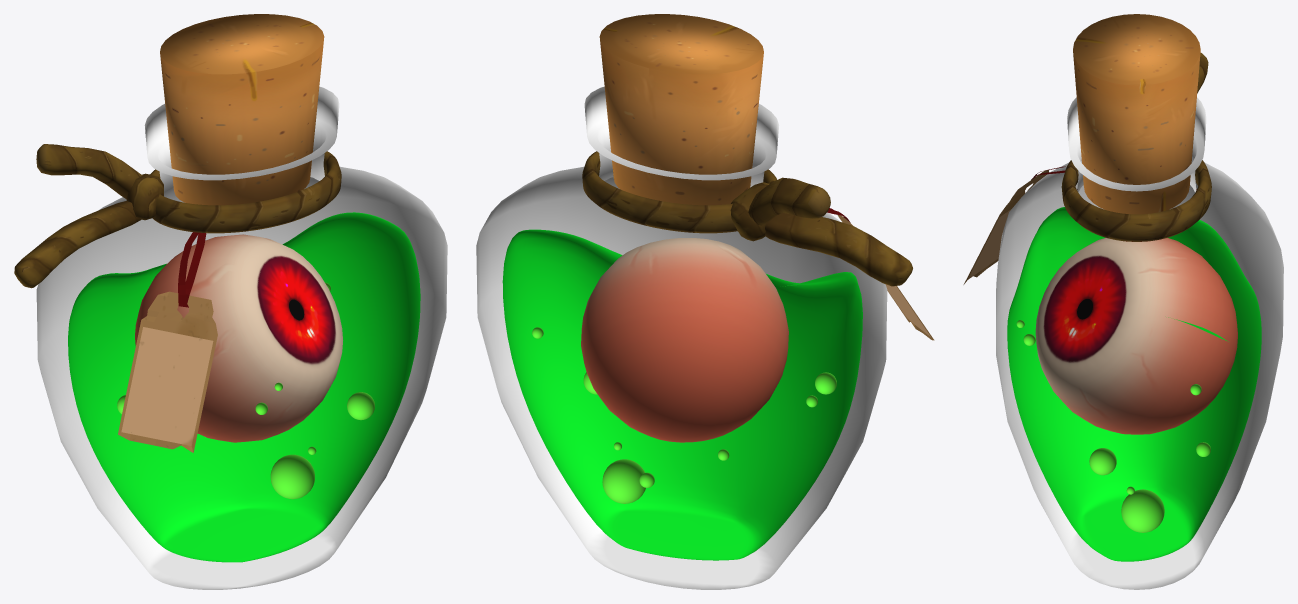
The model's file is eye_in_the_flask.glb.
3 renders of one model, left to right at view 1: azimuth 30°, elevation 25°; view 2: azimuth 150°, elevation 25°; view 3: azimuth 270°, elevation 25°, orthographic. The views are drawn at different scales.
Parts seen in each view (by area): view 1: Liquid, Bottle, Plug, eyeball, Ticket, Rope, Rope 3, Rope2, bb3, Rope4, bb4, Ticket rope 2; view 2: Liquid, Bottle, eyeball, Plug, Rope 3, Rope, Rope2, bb3, Rope4, Ticket; view 3: Liquid, eyeball, Bottle, Plug, Rope, bb3, Ticket, bb4.
Boxes of the visible parts, x1=… form: Liquid: x1=68, y1=212, x2=420, y2=562; Bottle: x1=36, y1=86, x2=447, y2=589; Plug: x1=160, y1=14, x2=324, y2=205; eyeball: x1=135, y1=234, x2=342, y2=442; Ticket: x1=118, y1=291, x2=217, y2=452; Rope: x1=150, y1=151, x2=341, y2=233; Rope 3: x1=14, y1=201, x2=141, y2=288; Rope2: x1=36, y1=144, x2=142, y2=199; bb3: x1=270, y1=454, x2=314, y2=499; Rope4: x1=126, y1=173, x2=163, y2=220; bb4: x1=347, y1=392, x2=374, y2=420; Ticket rope 2: x1=178, y1=232, x2=199, y2=307; Liquid: x1=502, y1=229, x2=862, y2=560; Bottle: x1=476, y1=86, x2=887, y2=589; eyeball: x1=581, y1=238, x2=788, y2=442; Plug: x1=599, y1=14, x2=763, y2=205; Rope 3: x1=765, y1=213, x2=912, y2=286; Rope: x1=582, y1=151, x2=776, y2=233; Rope2: x1=748, y1=177, x2=830, y2=225; bb3: x1=602, y1=459, x2=645, y2=503; Rope4: x1=730, y1=182, x2=775, y2=241; Ticket: x1=837, y1=215, x2=934, y2=340; Liquid: x1=1007, y1=207, x2=1261, y2=561; eyeball: x1=1035, y1=238, x2=1237, y2=434; Bottle: x1=996, y1=97, x2=1283, y2=589; Plug: x1=1073, y1=14, x2=1200, y2=214; Rope: x1=1061, y1=160, x2=1211, y2=241; bb3: x1=1121, y1=489, x2=1164, y2=532; Ticket: x1=963, y1=170, x2=1048, y2=284; bb4: x1=1089, y1=448, x2=1116, y2=475.
Bounding box in the file's own units: 483 × 565 × 330.
Materials: 10 (5 with a texture image).
